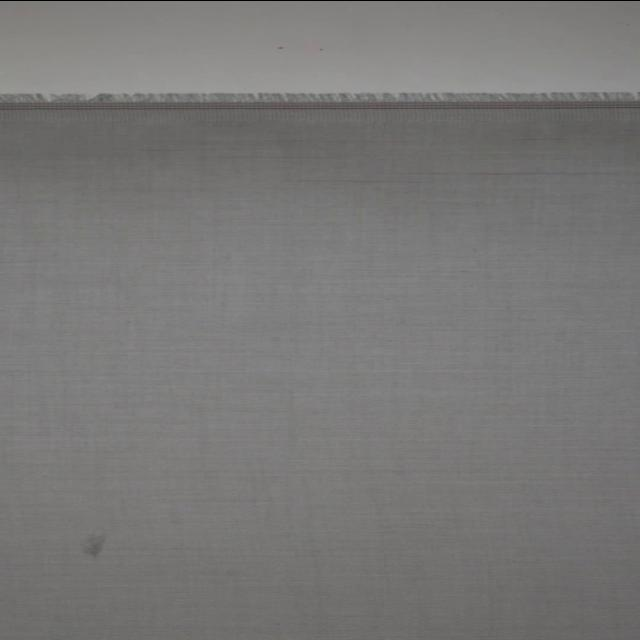dirty: (76, 534, 110, 558)
